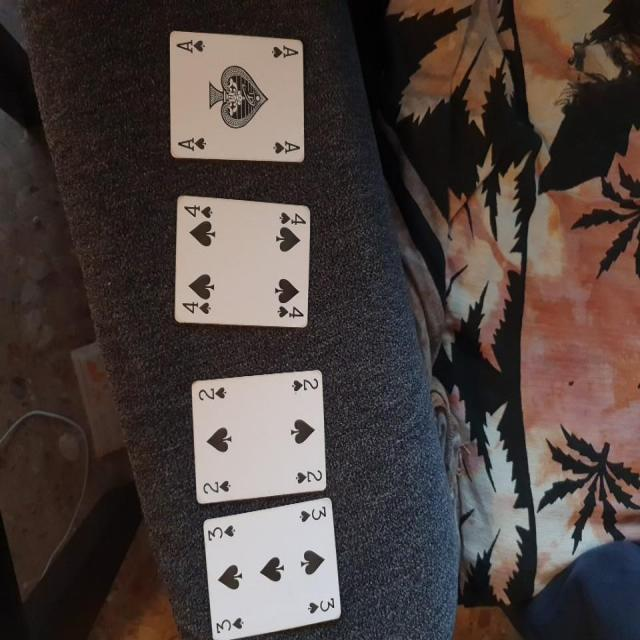2 Spades: (187, 366, 332, 500)
3 Spades: (200, 492, 347, 640)
4 Spades: (169, 191, 314, 334)
A Spades: (162, 26, 310, 165)
